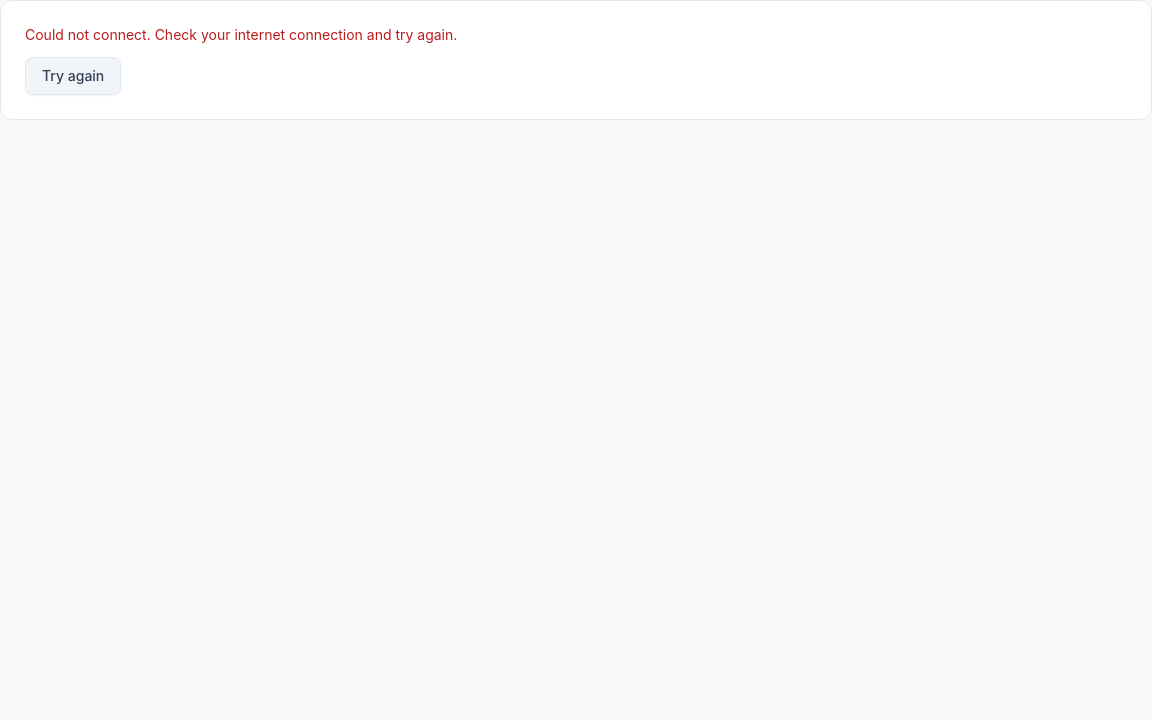
Test: KDSSettings load failure › retries the load and renders the settings once the retry succeeds
The width and height of the screenshot is (1152, 720).
Expected: the message "Could not connect. Check your internet connection and try again. Try again" is shown, [0, 0, 1151, 120]
Click the button "Try again" at (73, 76), box [25, 57, 121, 95]
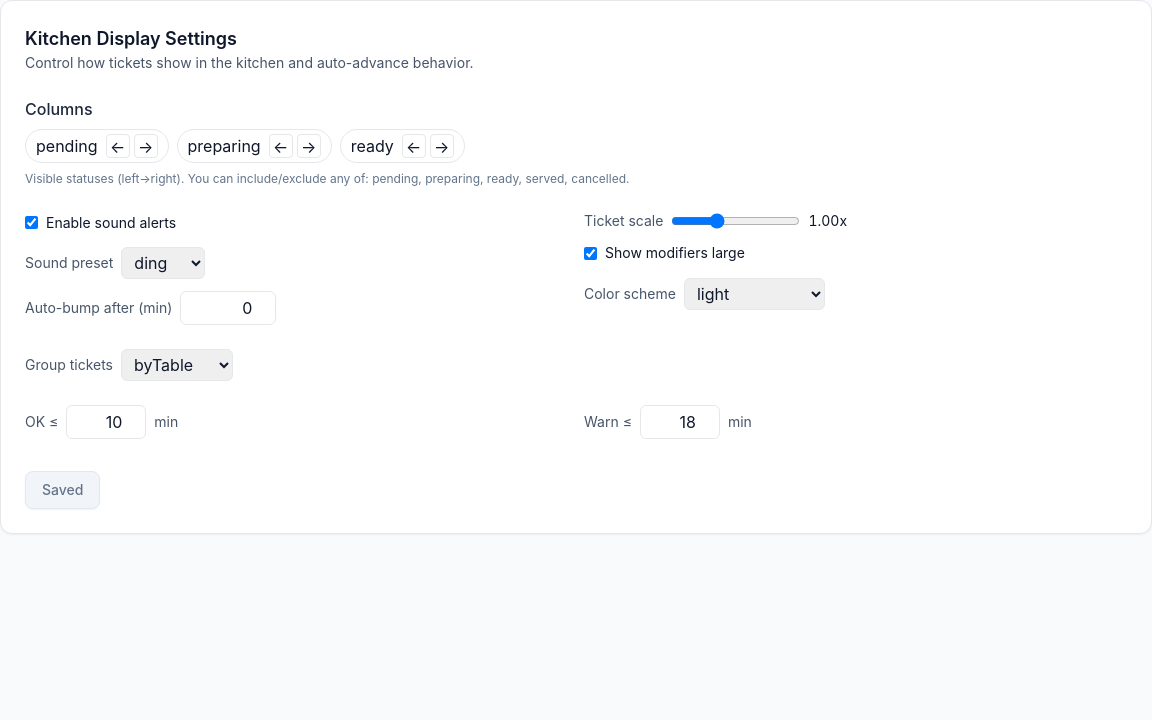
Expected: the message "Could not connect. Check your internet connection and try again. Try again" is gone
